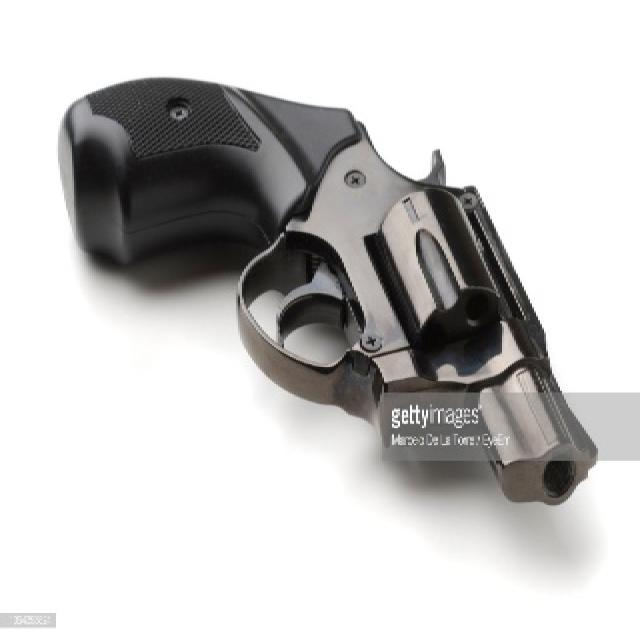handgun: (45, 71, 605, 513)
